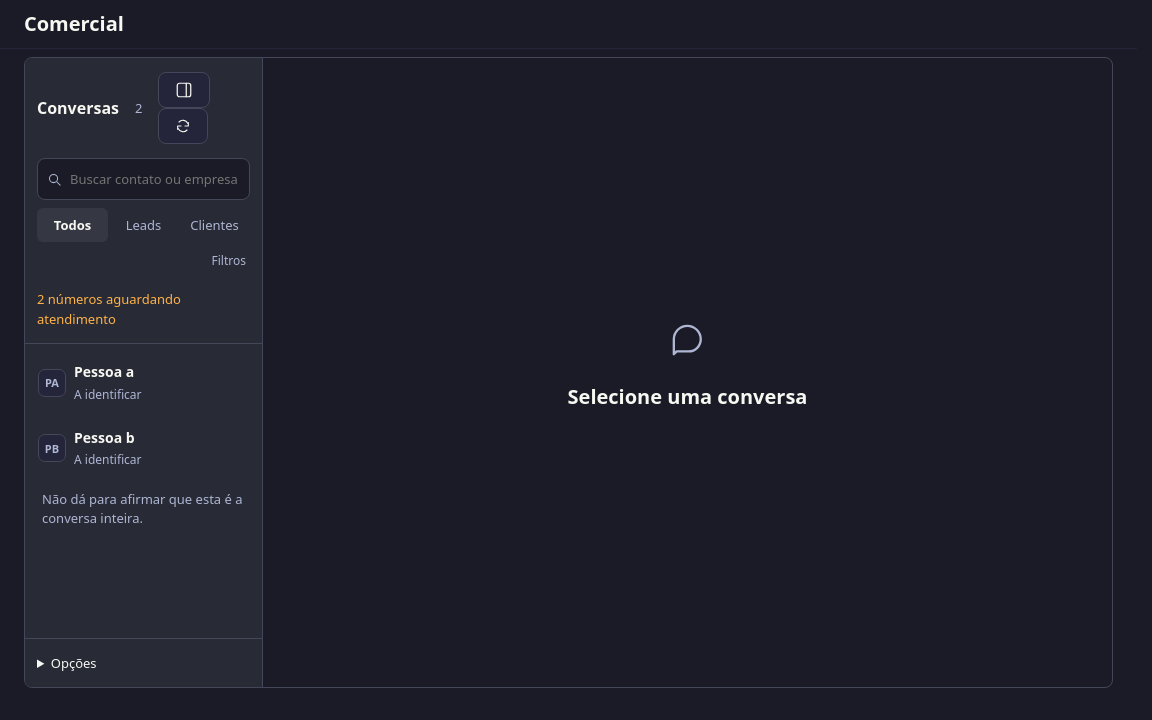
Test: selecionar outro atendimento fecha os detalhes e permite continuar digitando
The image size is (1152, 720).
Click the button with test id "conversa-a": (144, 383) top-left (30, 351), bottom-right (257, 414)
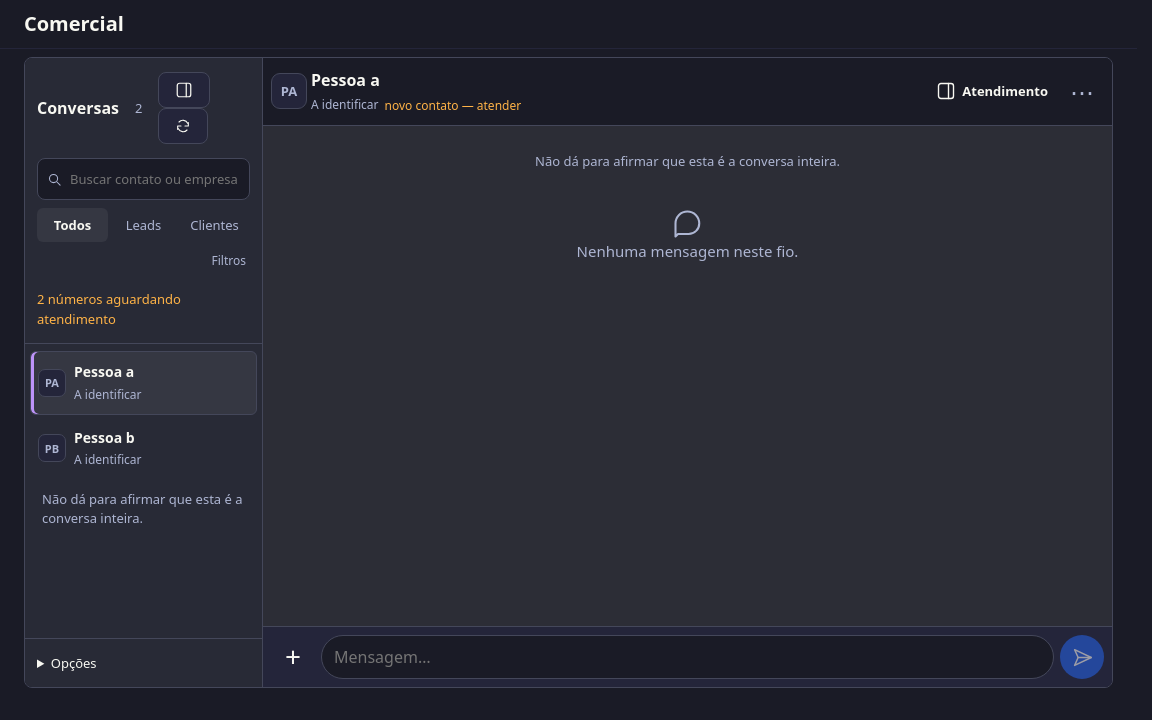
In the text box named "Responder ao cliente": (688, 657) top-left (321, 635), bottom-right (1054, 679), type "Rascunho A"
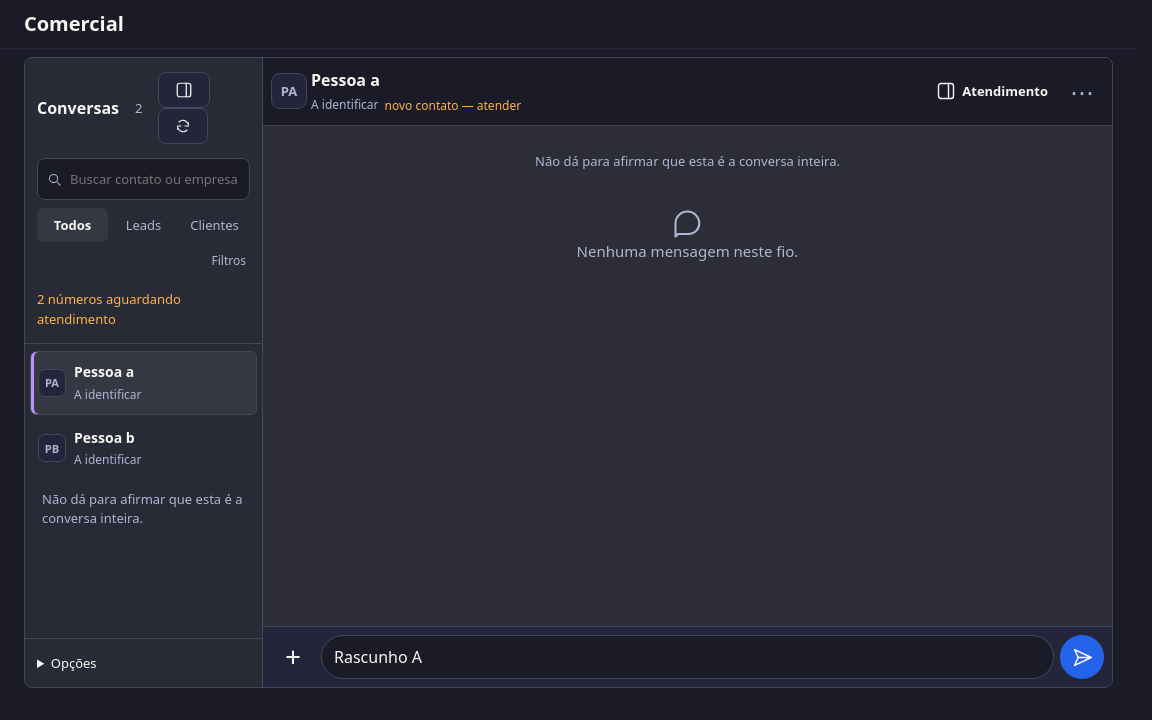
Click the button with aria-label "Detalhes da conversa": (992, 91) top-left (924, 69), bottom-right (1060, 113)
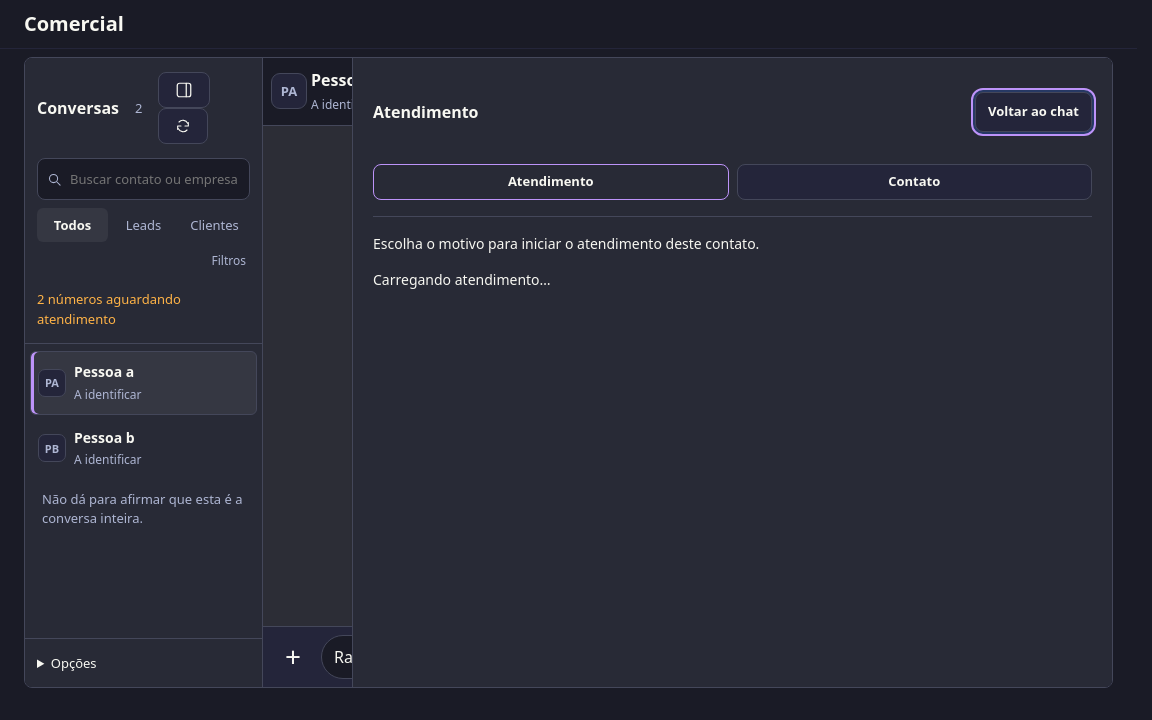
Result: the element named "Detalhes da conversa" is shown at top-left (352, 58), bottom-right (1112, 687)
Click the button with test id "conversa-b": (144, 448) top-left (30, 416), bottom-right (257, 480)
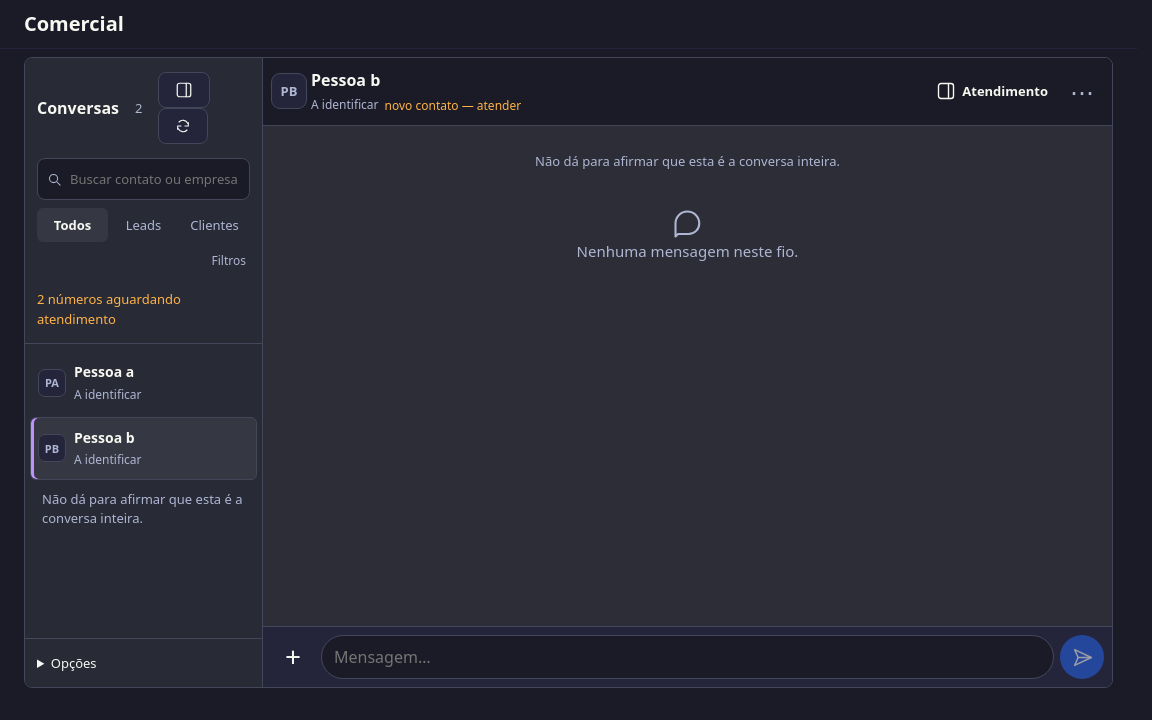
Result: the button with test id "conversa-b" is marked as current at top-left (30, 416), bottom-right (257, 480)
In the text box named "Responder ao cliente": (688, 657) top-left (321, 635), bottom-right (1054, 679), type "Rascunho B"
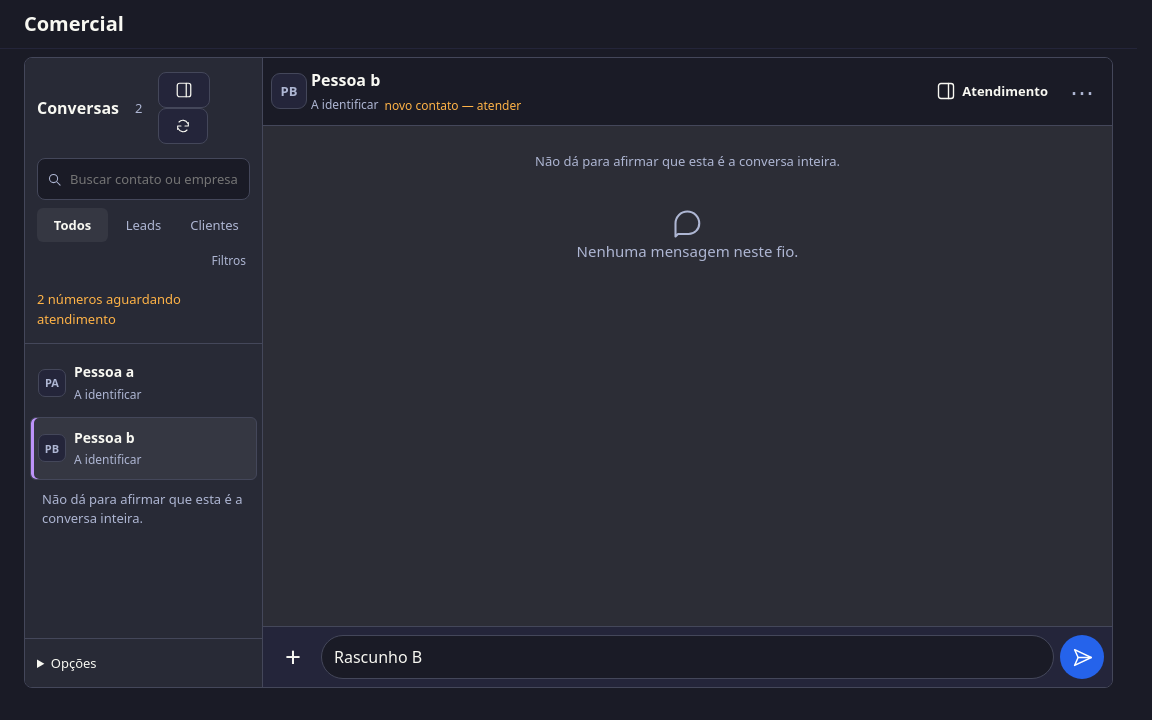
Click the button with test id "conversa-a": (144, 383) top-left (30, 351), bottom-right (257, 414)
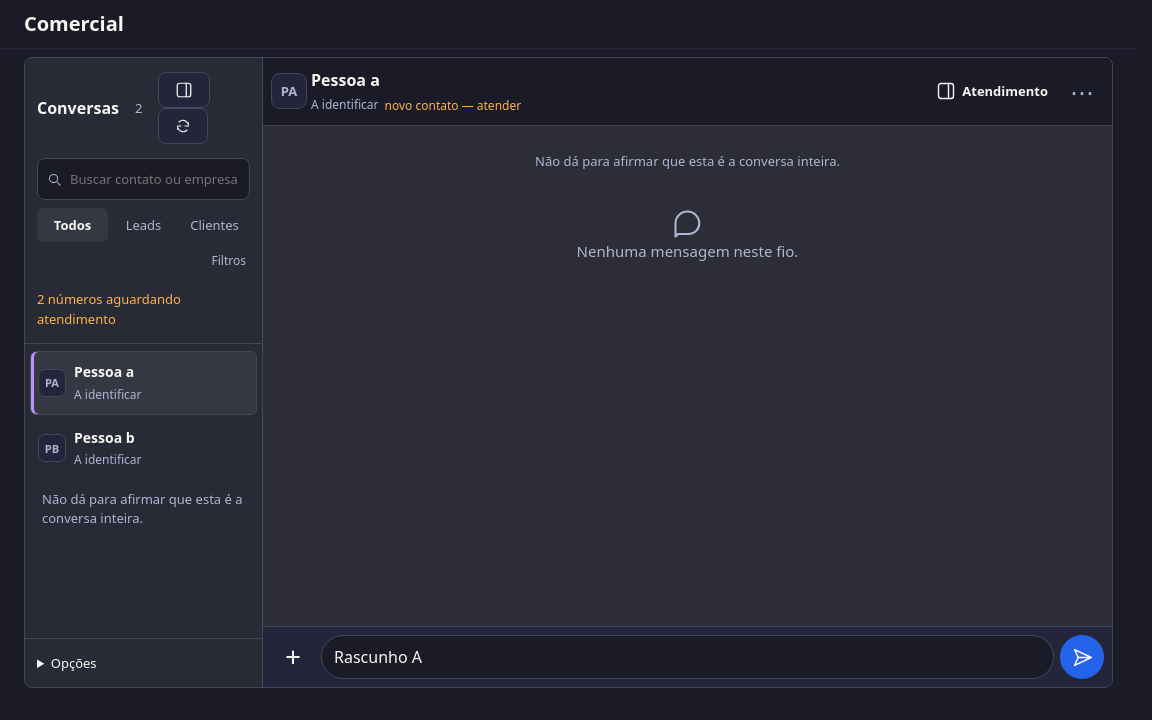
Result: the text box named "Responder ao cliente" holds "Rascunho A" at top-left (321, 635), bottom-right (1054, 679)
